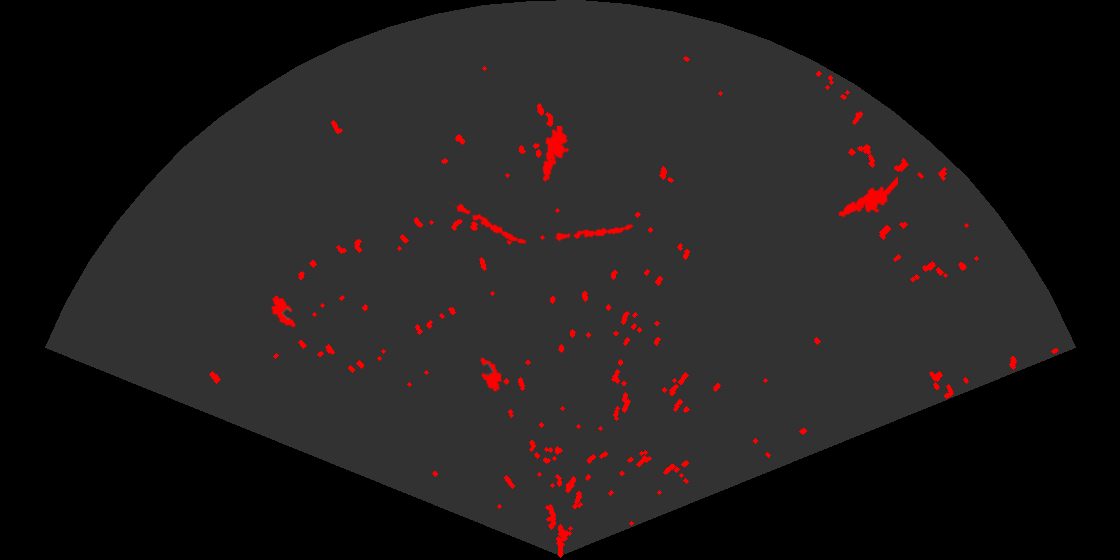AUV: (270, 294, 297, 329), (479, 356, 503, 394)
chain: (447, 198, 528, 246), (553, 223, 635, 243)
frogman: (837, 175, 898, 219), (541, 126, 571, 183)
